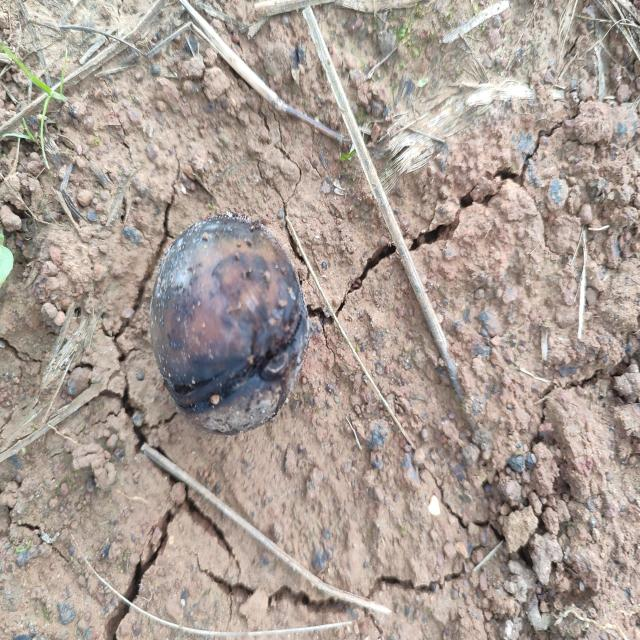damaged: (150, 214, 309, 435)
